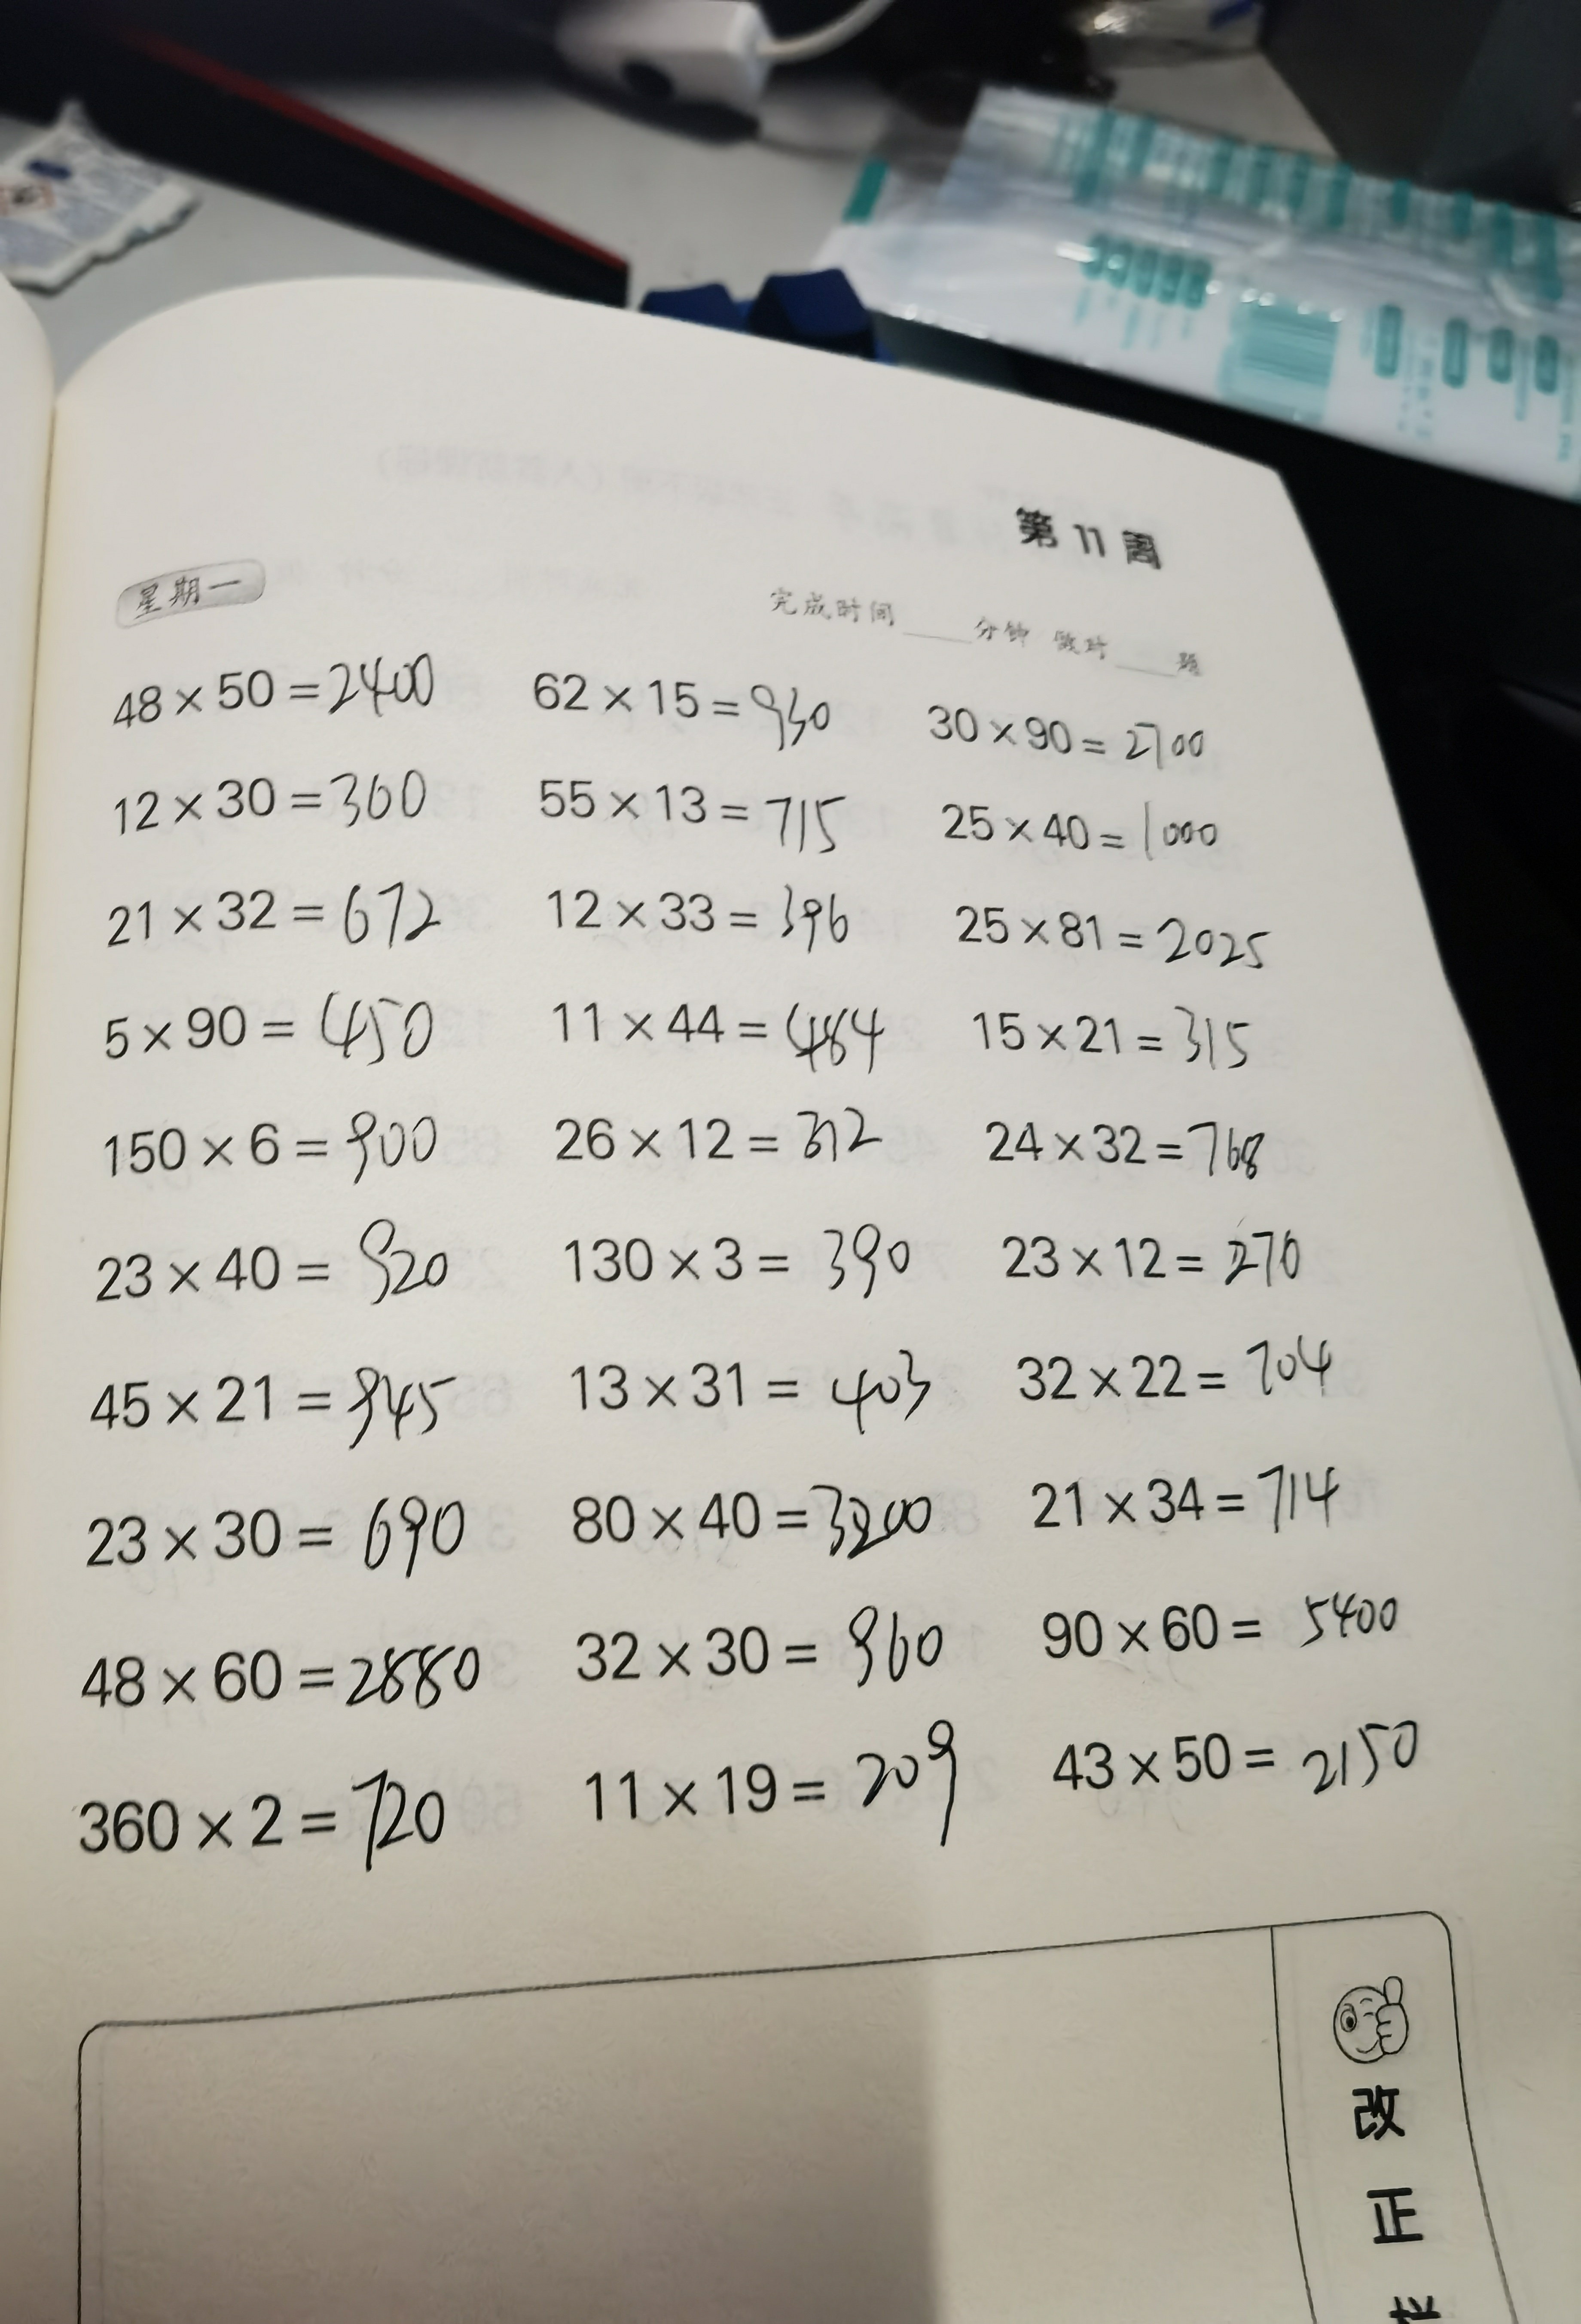equation: (556, 1733, 994, 1872), (68, 1758, 475, 1894), (494, 634, 886, 760), (75, 1619, 513, 1729), (80, 1473, 494, 1581), (551, 1205, 937, 1315), (547, 1337, 958, 1440), (1039, 1705, 1448, 1808), (1022, 1578, 1427, 1678), (90, 973, 475, 1078), (566, 1605, 963, 1703), (534, 980, 917, 1081), (94, 1341, 484, 1439), (89, 1207, 475, 1305), (1020, 1434, 1383, 1535), (551, 1485, 955, 1575), (513, 861, 869, 959), (939, 880, 1279, 982), (986, 1210, 1338, 1306), (544, 1079, 929, 1167), (99, 1098, 456, 1188), (506, 768, 879, 853), (919, 679, 1248, 772), (92, 870, 461, 949), (968, 1102, 1293, 1191), (99, 768, 453, 849), (1006, 1334, 1400, 1406), (919, 784, 1248, 868), (958, 990, 1267, 1078), (70, 646, 465, 706)
